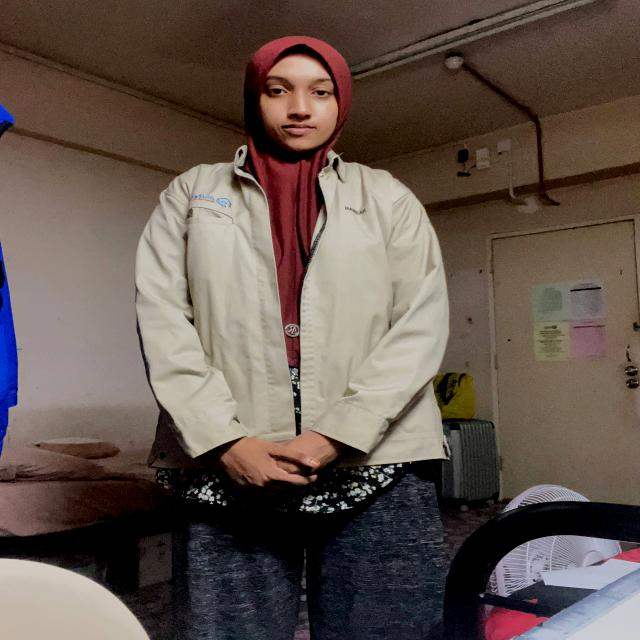person_with_labcoat: (136, 36, 448, 640)
